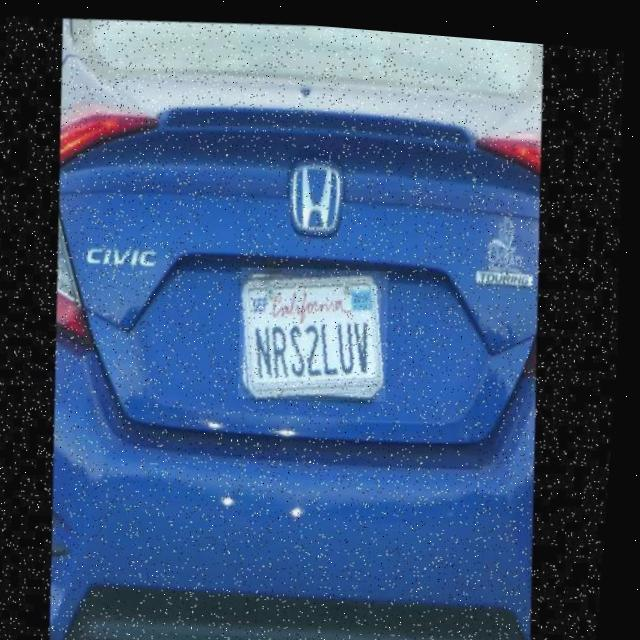LicensePlate: (237, 255, 399, 403)
